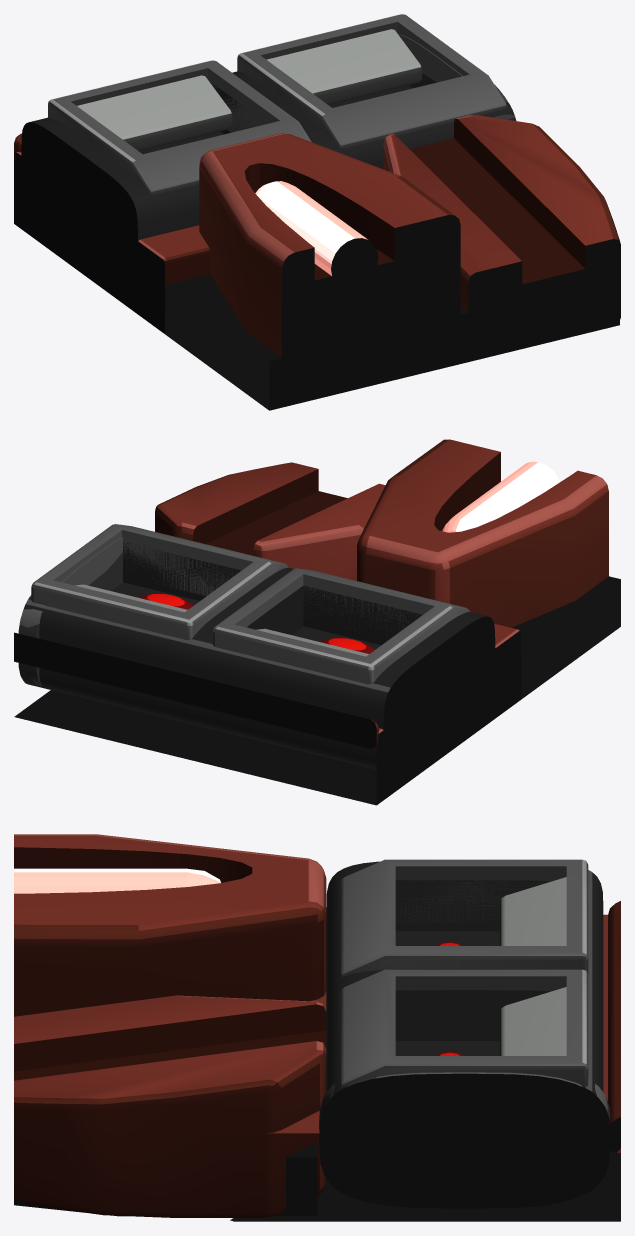
File: savara_boss_205.glb
3 renders of one model, top to bottom at view 1: azimuth 30°, elevation 25°; view 2: azimuth 150°, elevation 25°; view 3: azimuth 270°, elevation 25°, orthographic. The views are drawn at different scales.
Parts seen in each view (by area): view 1: savara_boss_205; view 2: savara_boss_205; view 3: savara_boss_205.
Part boxes in pixels (x1=…): savara_boss_205: x1=14, y1=14, x2=620, y2=410; savara_boss_205: x1=14, y1=439, x2=620, y2=805; savara_boss_205: x1=14, y1=834, x2=620, y2=1221.
Bounding box in the file's own units: 24 × 9.2 × 28.
